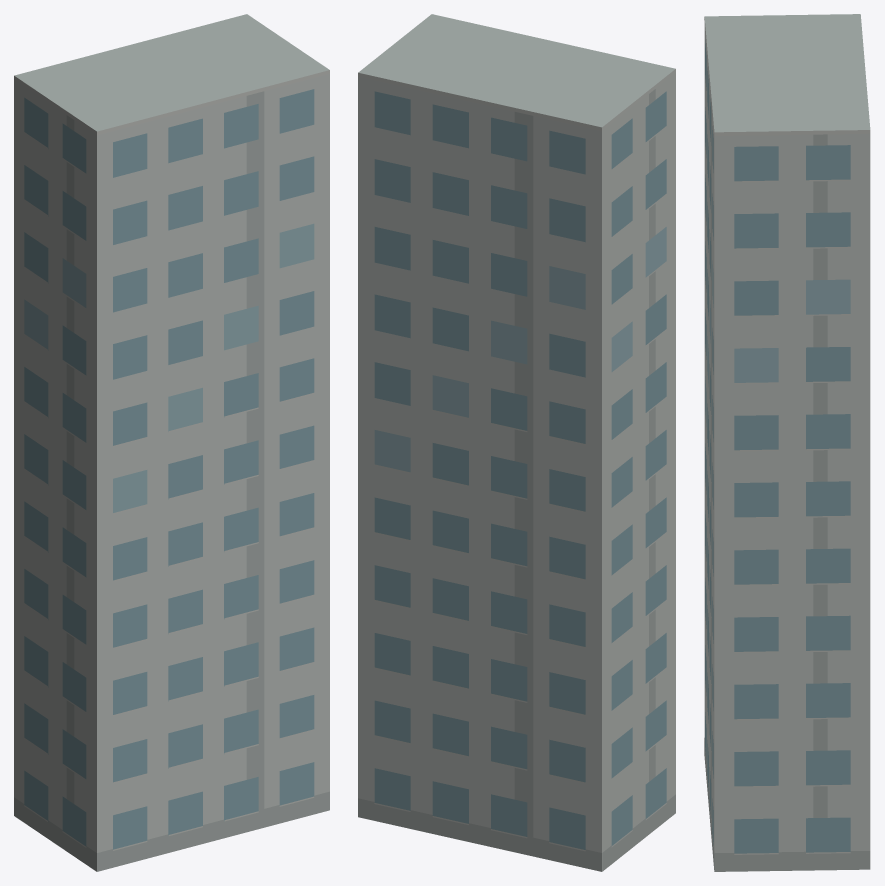
Rendered from residential-e7befc9c-fe85-4006-b538-0a46591b156f.glb.
3 renders of one model, left to right at view 1: azimuth 30°, elevation 25°; view 2: azimuth 150°, elevation 25°; view 3: azimuth 270°, elevation 25°, orthographic.
Visible parts, largest first — view 1: residential-e7befc9c-fe85-4006-b538-0a46591b156f.tmp; view 2: residential-e7befc9c-fe85-4006-b538-0a46591b156f.tmp; view 3: residential-e7befc9c-fe85-4006-b538-0a46591b156f.tmp.
Part boxes in pixels (x1,y1,x2,y2): residential-e7befc9c-fe85-4006-b538-0a46591b156f.tmp: (14,14,329,871); residential-e7befc9c-fe85-4006-b538-0a46591b156f.tmp: (358,14,675,871); residential-e7befc9c-fe85-4006-b538-0a46591b156f.tmp: (704,14,870,871).
Bounding box in the file's own units: 16.13 × 47 × 9.56.
